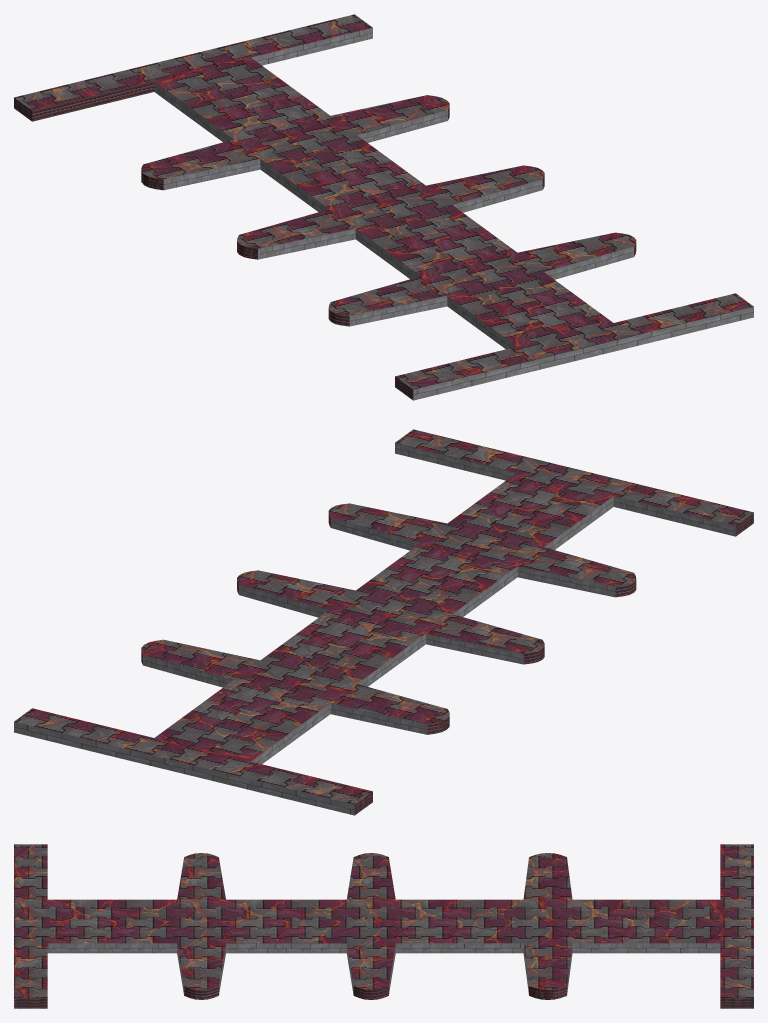
The model's file is parking_lot_4.fbx.
The picture shows the model from 3 angles, top to bottom: view 1: azimuth 30°, elevation 25°; view 2: azimuth 150°, elevation 25°; view 3: azimuth 270°, elevation 25°; orthographic projection. The views are drawn at different scales.
Parts seen in each view (by area): view 1: parking_lot_4; view 2: parking_lot_4; view 3: parking_lot_4.
Boxes of the visible parts, x1,y1,x2,y2 form: parking_lot_4: (14, 14, 753, 400); parking_lot_4: (14, 429, 753, 815); parking_lot_4: (14, 844, 753, 1008).
Size of the model in its own units: 85.69 by 2.62 by 174.
